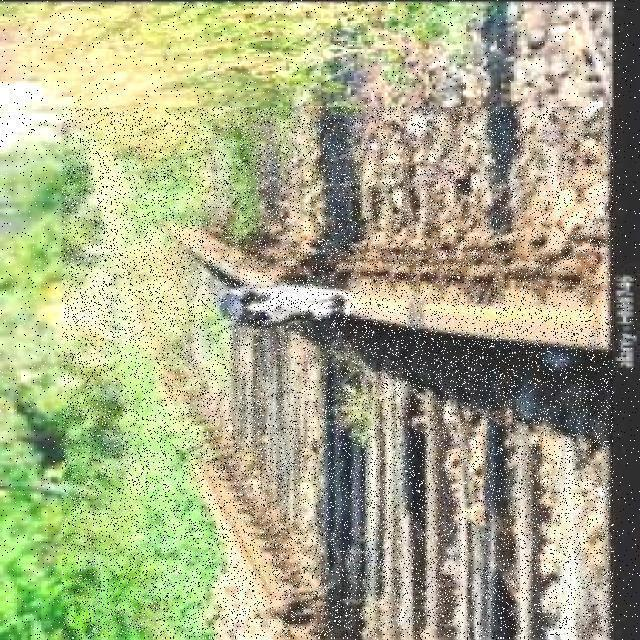rail: (64, 108, 614, 639)
